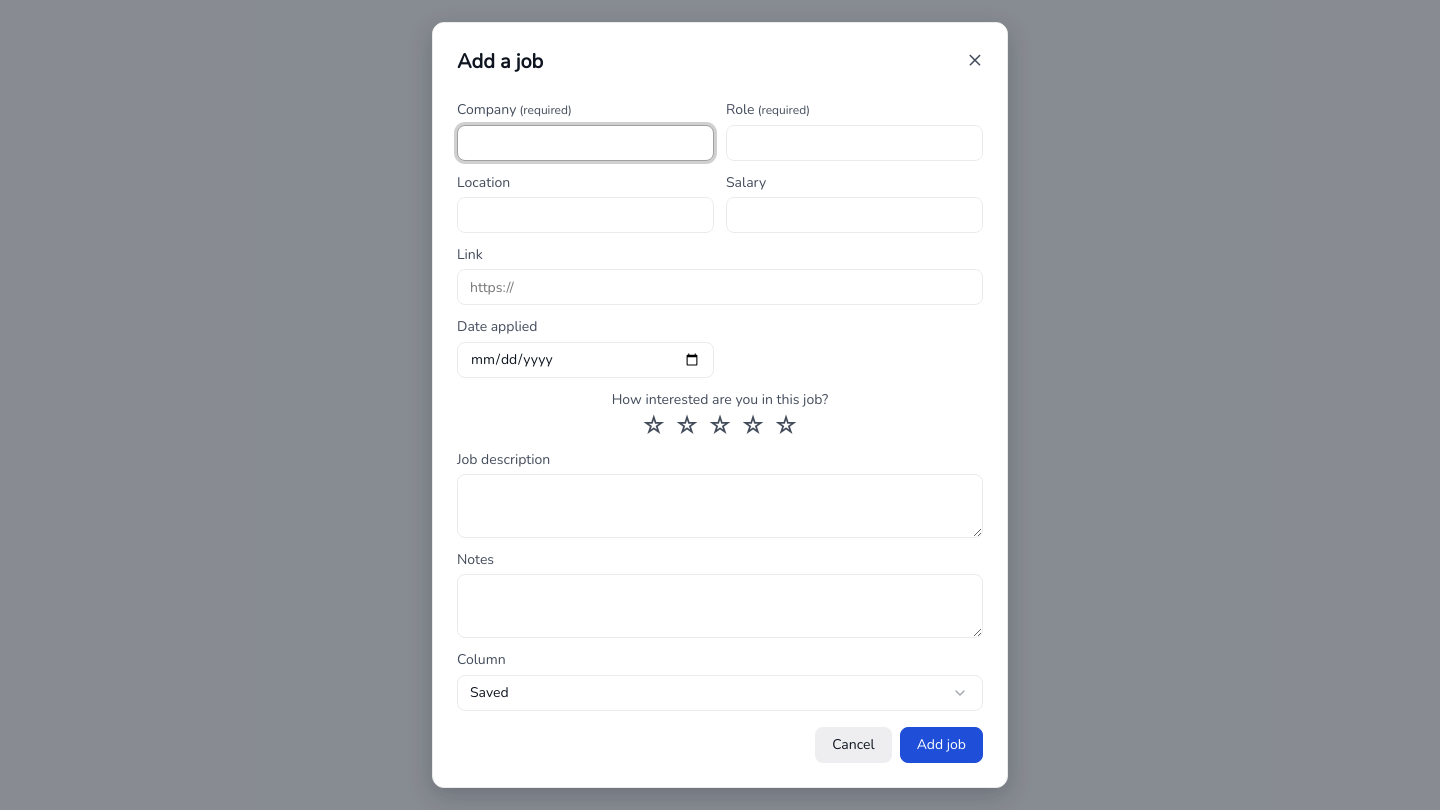
Test case: AddJobDialog › needs a company and a role (company Acme, role )
Step 1. Type "Acme" into the field labelled "Company (required)" → x=586, y=143, box [457,125,714,161]
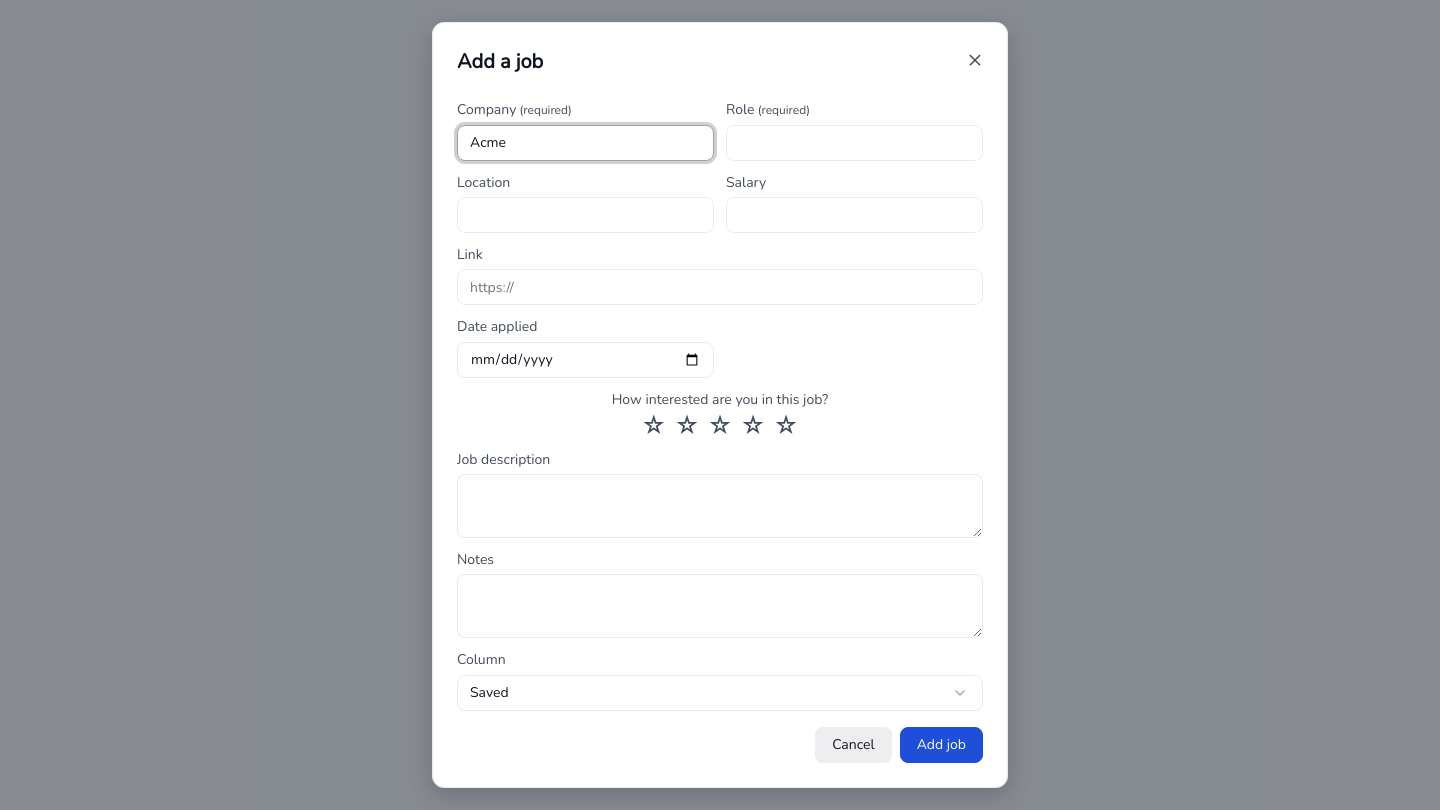
Step 2. Click the button "Add job" → x=941, y=745, box [900,727,983,763]
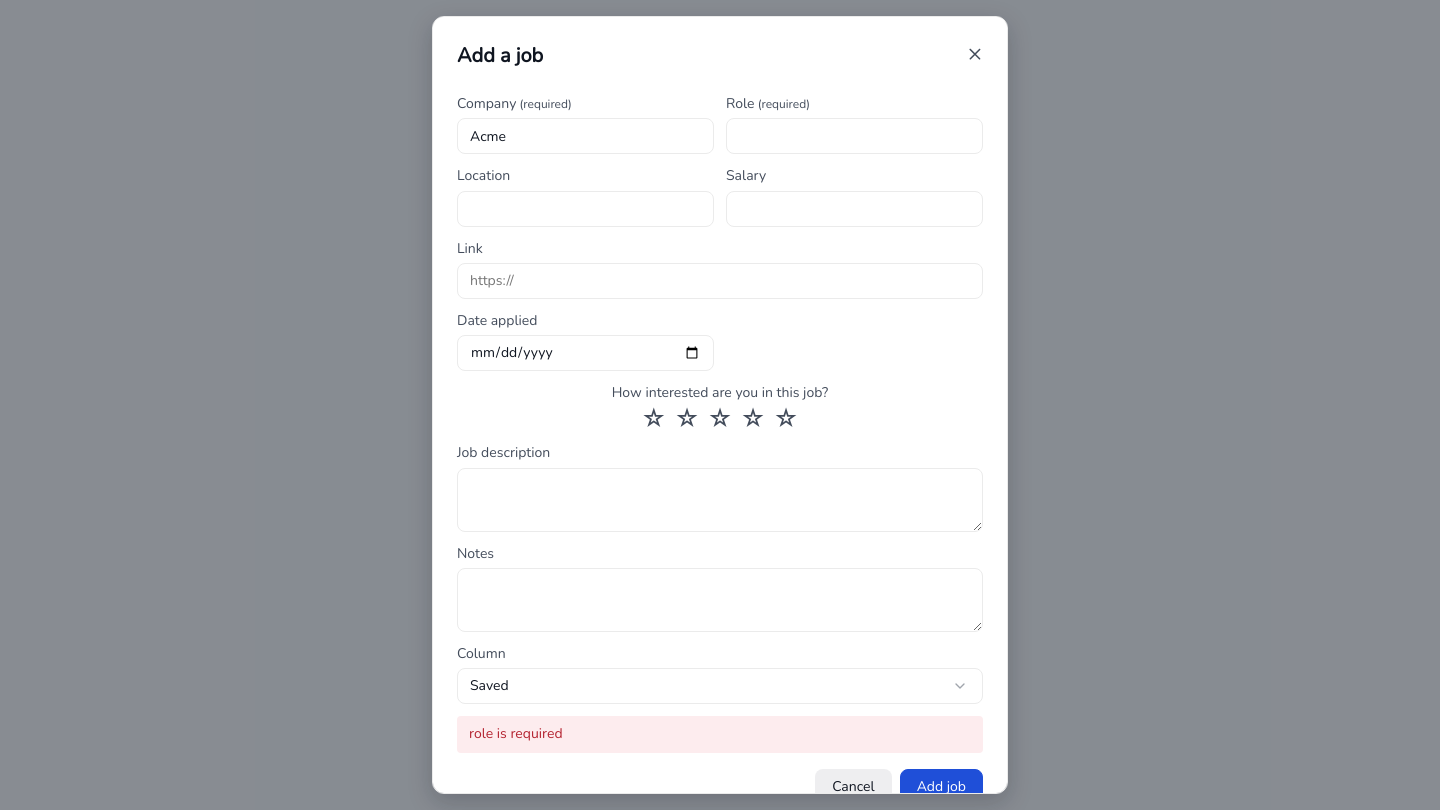
Expected: the dialog is shown, [432,16,1008,794]
Result: the message reads "role is required" at [469,724,563,743]
